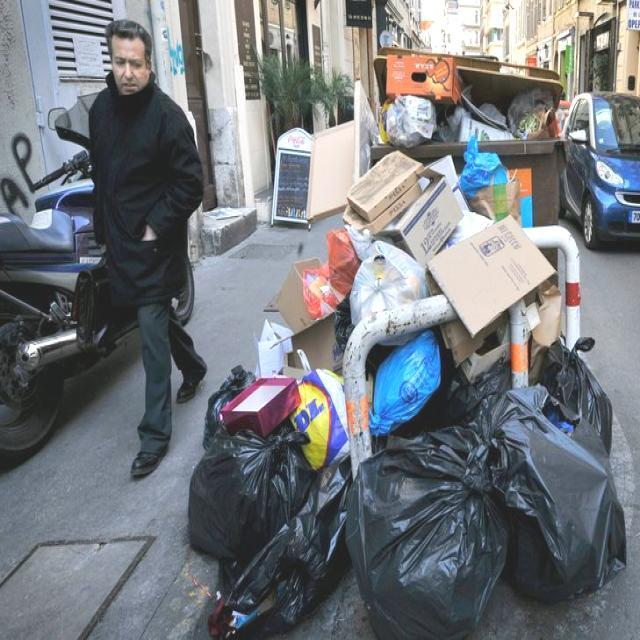high trash: (189, 152, 624, 640)
